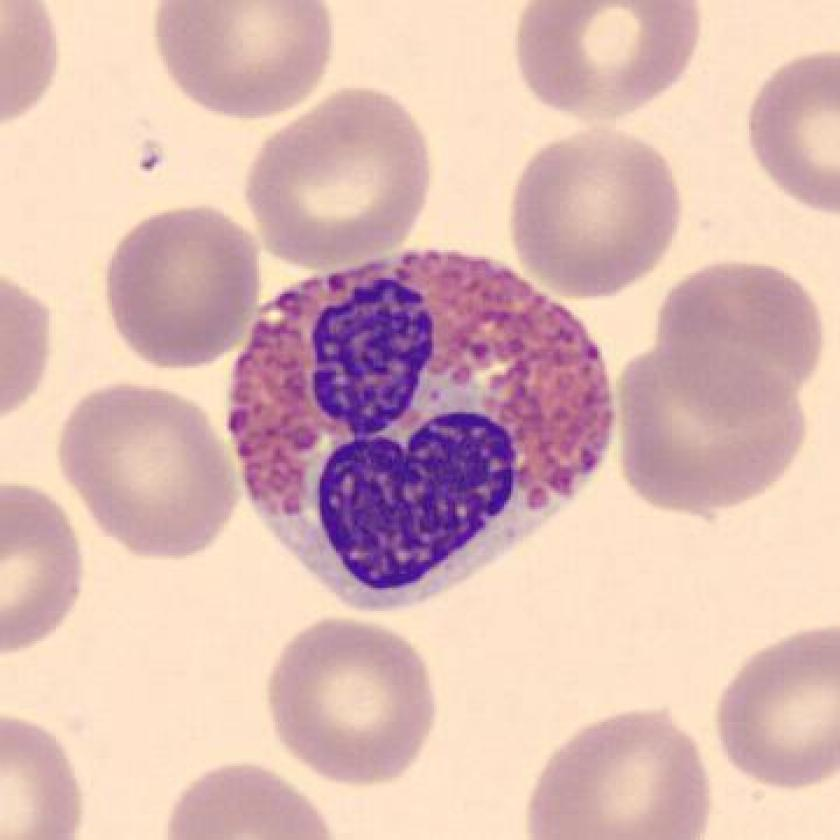eosinophil: (216, 240, 626, 622)
